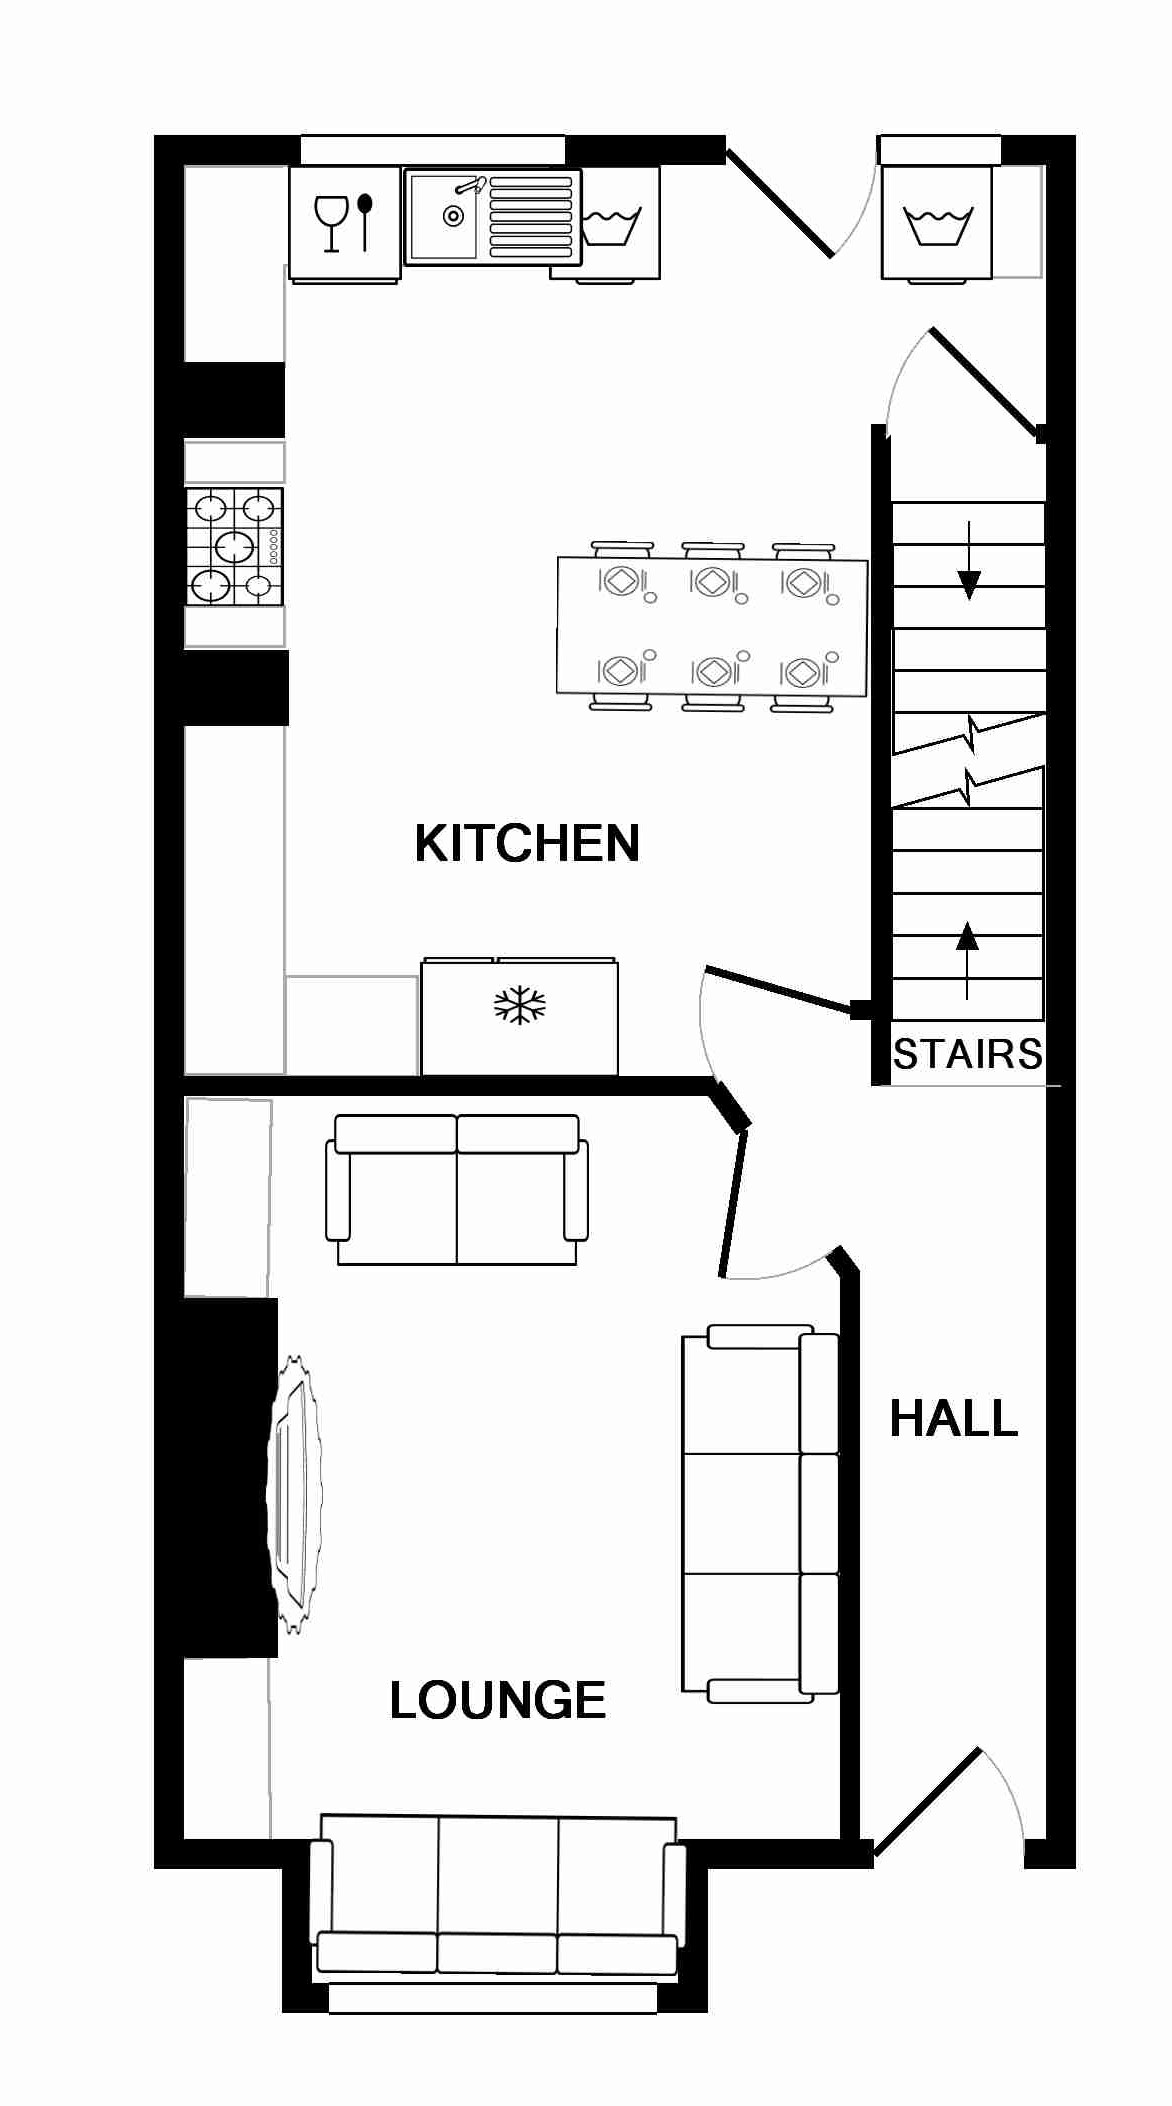room: (154, 137, 880, 1103), (154, 1075, 880, 1872)
